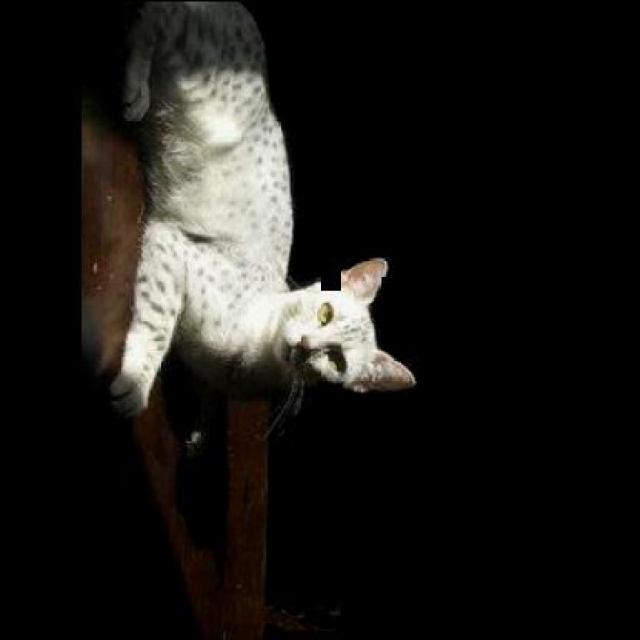unauthorized: (105, 0, 417, 426)
